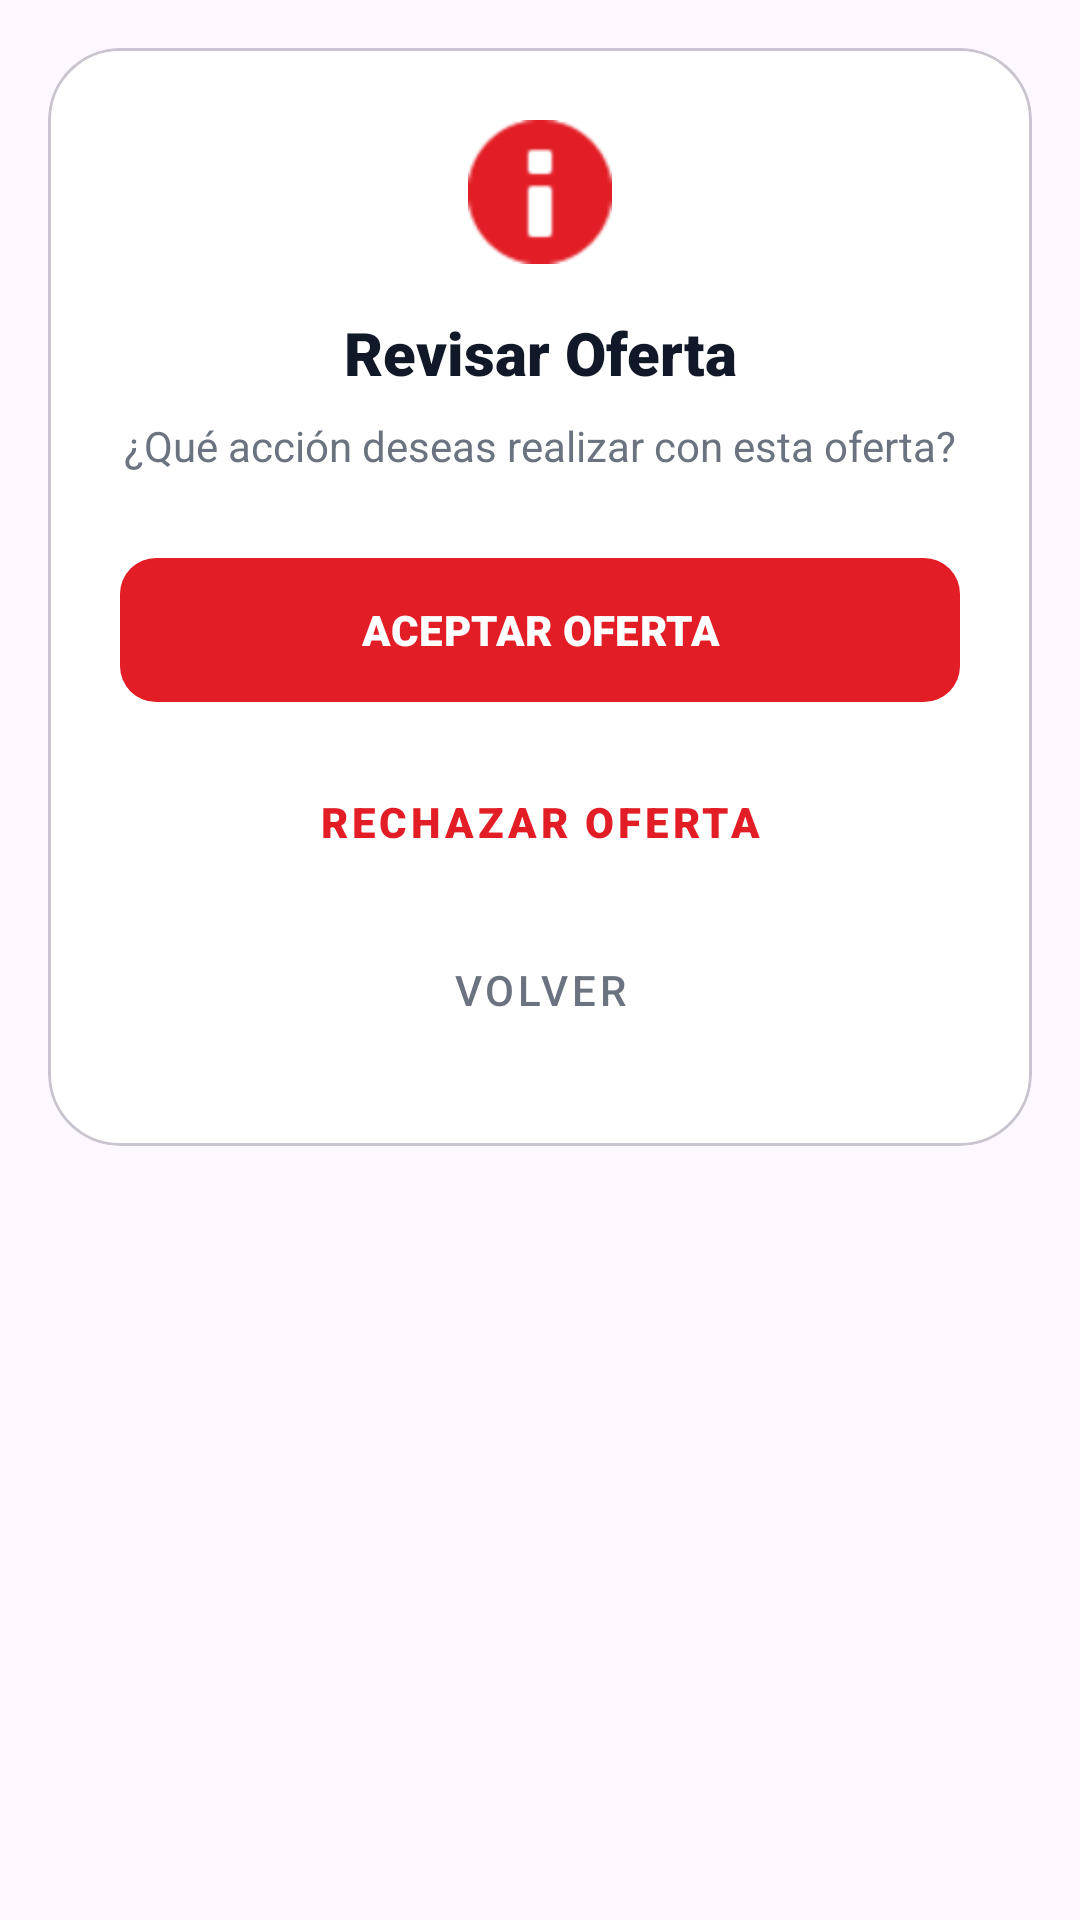

Icon bounding boxes for this 1080w x 1920h phone screenshot, format bbox=[x1, y1, x2, y2]:
info: bbox=[468, 120, 612, 264]
